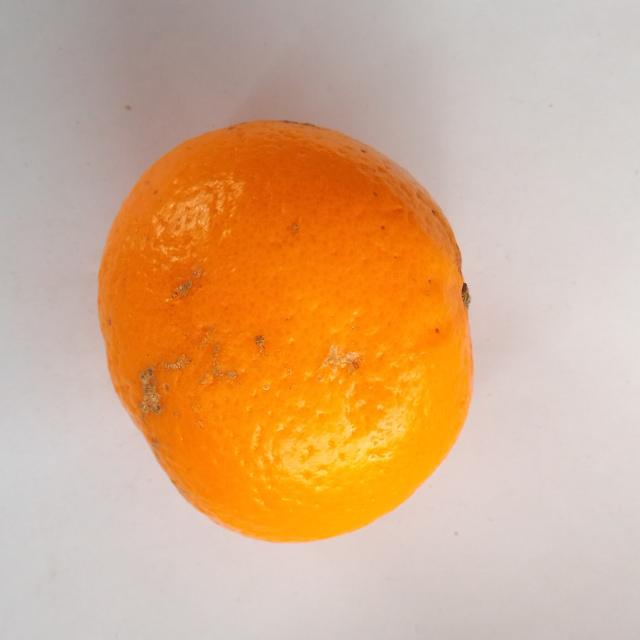orange: (99, 122, 472, 541)
